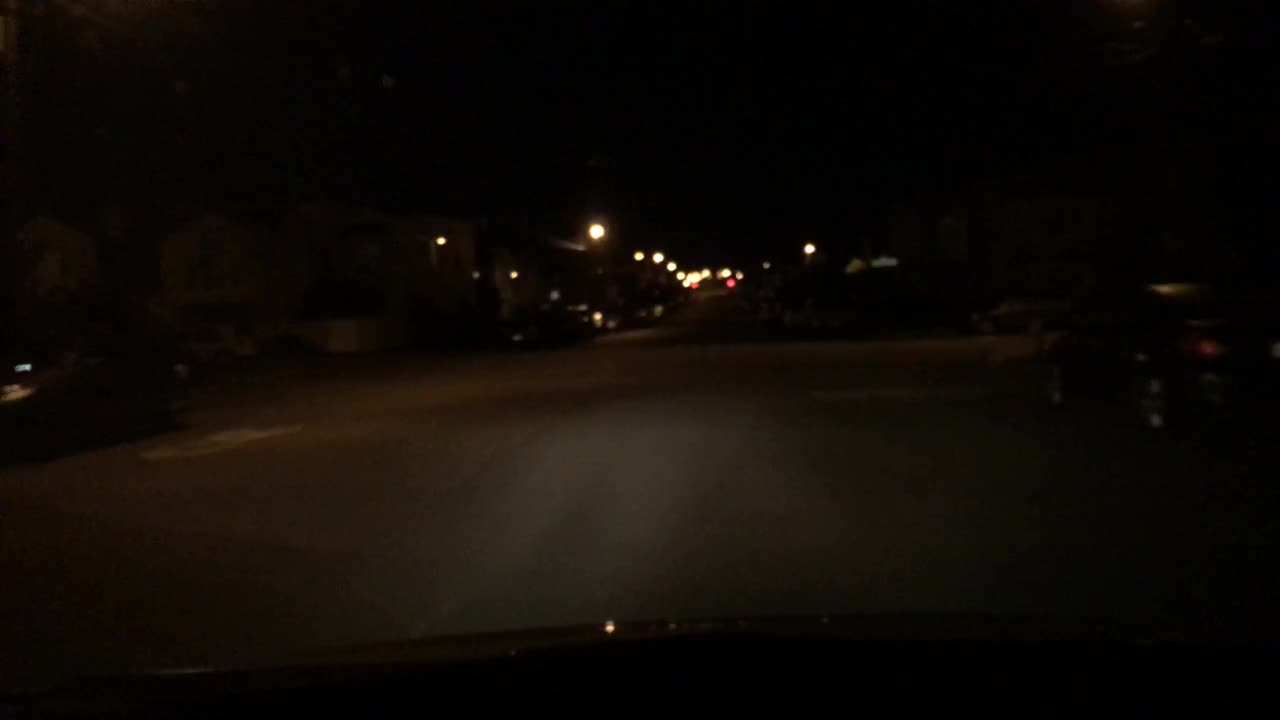car: (1048, 283, 1278, 447), (0, 299, 196, 450), (501, 291, 603, 351), (621, 286, 674, 326), (671, 289, 690, 304)
